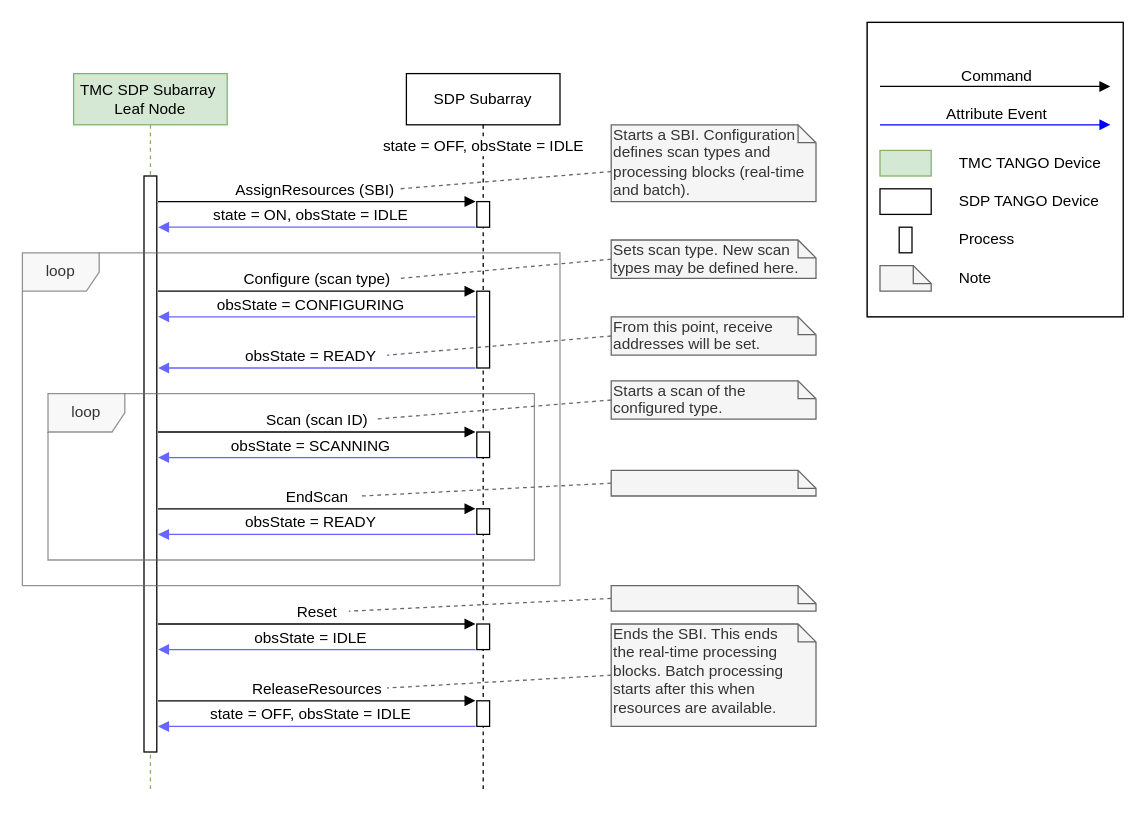
This 1146x813 diagram has some shape labels left out. Here are the shapes that lost their labels. From the top down, the box of each, then its label:
(866, 21, 1123, 317): Key
(610, 469, 816, 496): Ends the scan.
(610, 584, 816, 611): Clears the scan type.
